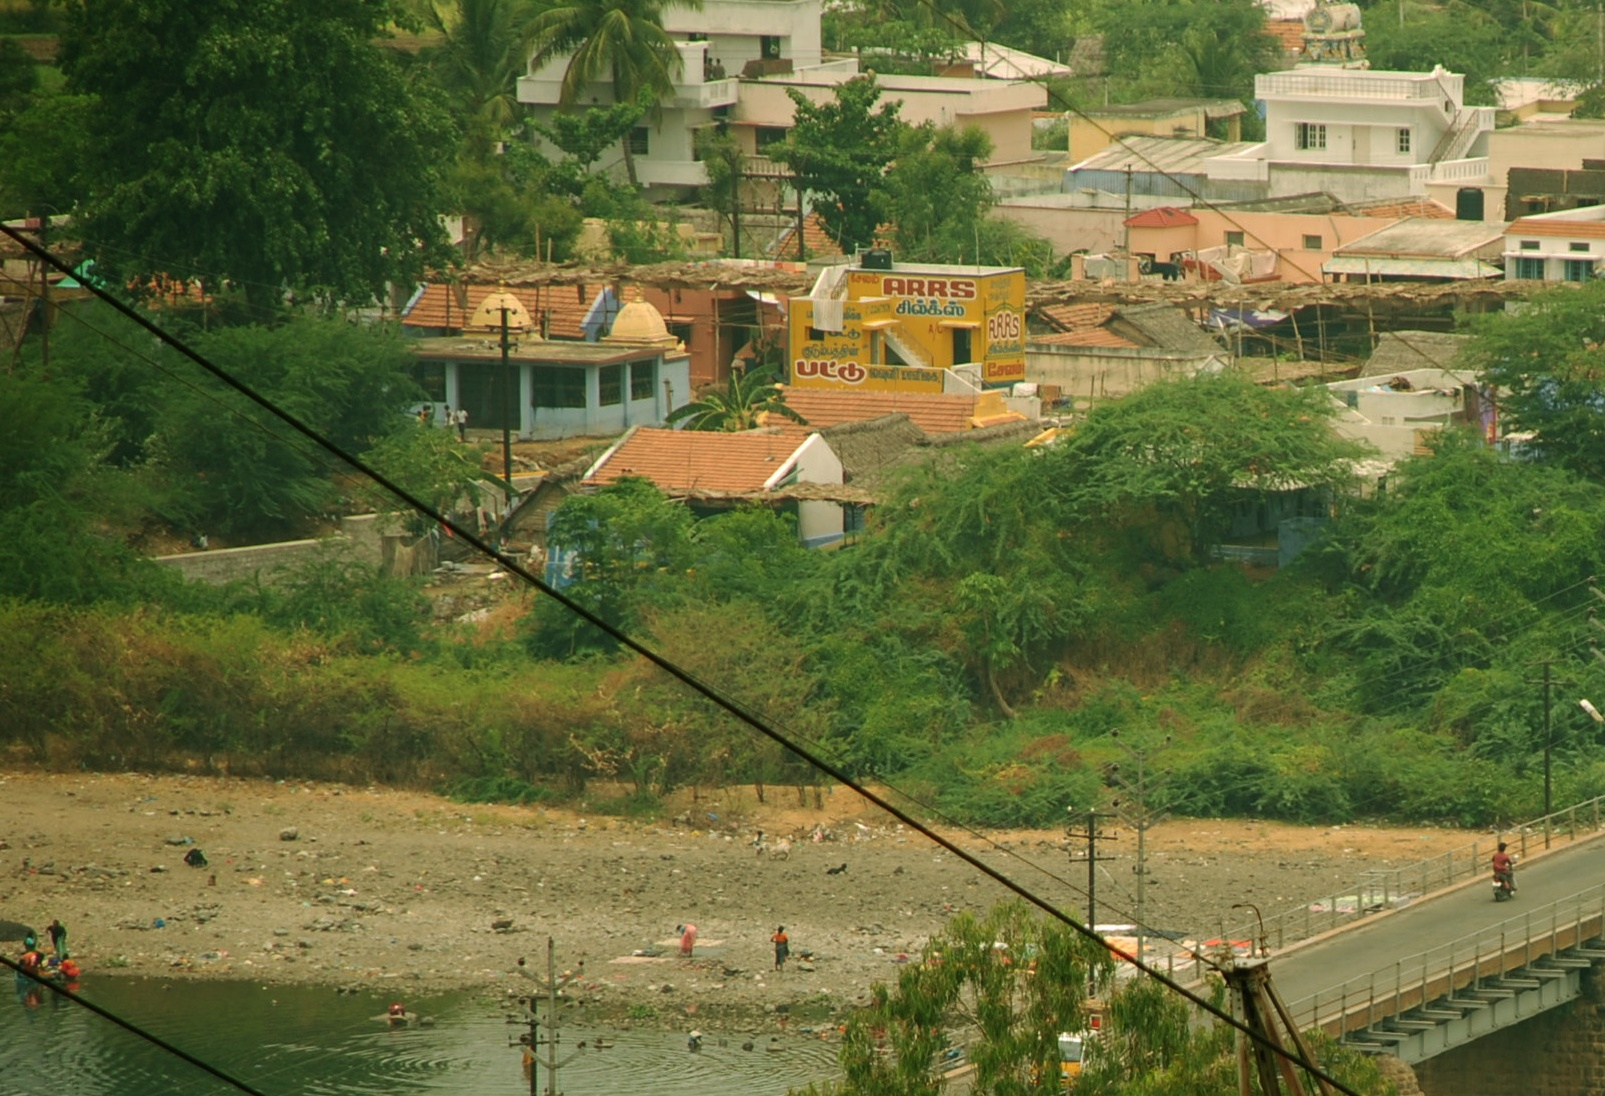building: (775, 236, 1050, 478), (390, 305, 681, 430), (1241, 68, 1502, 185)
person: (1481, 834, 1517, 894), (672, 916, 710, 956), (772, 923, 793, 970)
tree: (66, 1, 513, 332)
water: (2, 968, 848, 1096)
